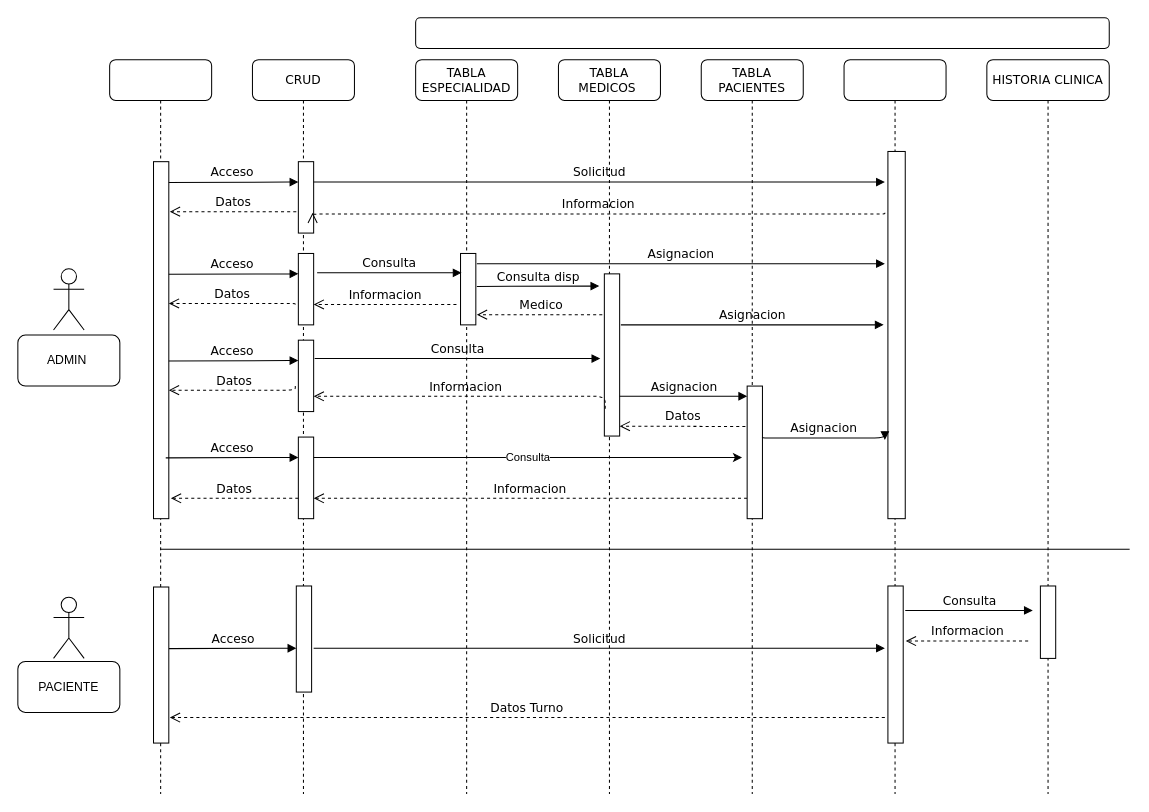
Image size: 1149x812. Some labels were removed from this diagram. The box of each missing label's shape, as (x1, y1, x2, y2) in pixels:
BASE DE DATOS: (415, 17, 1109, 48)
MENU: (109, 59, 212, 794)
TABLA TURNOS: (843, 59, 946, 794)
